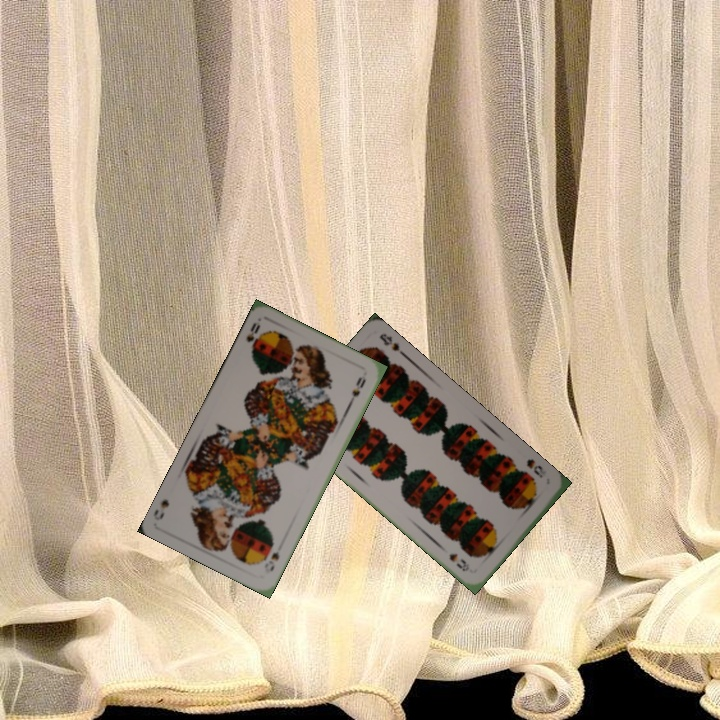S8: (522, 455, 549, 480)
SO: (242, 319, 264, 356), (265, 540, 285, 574)
